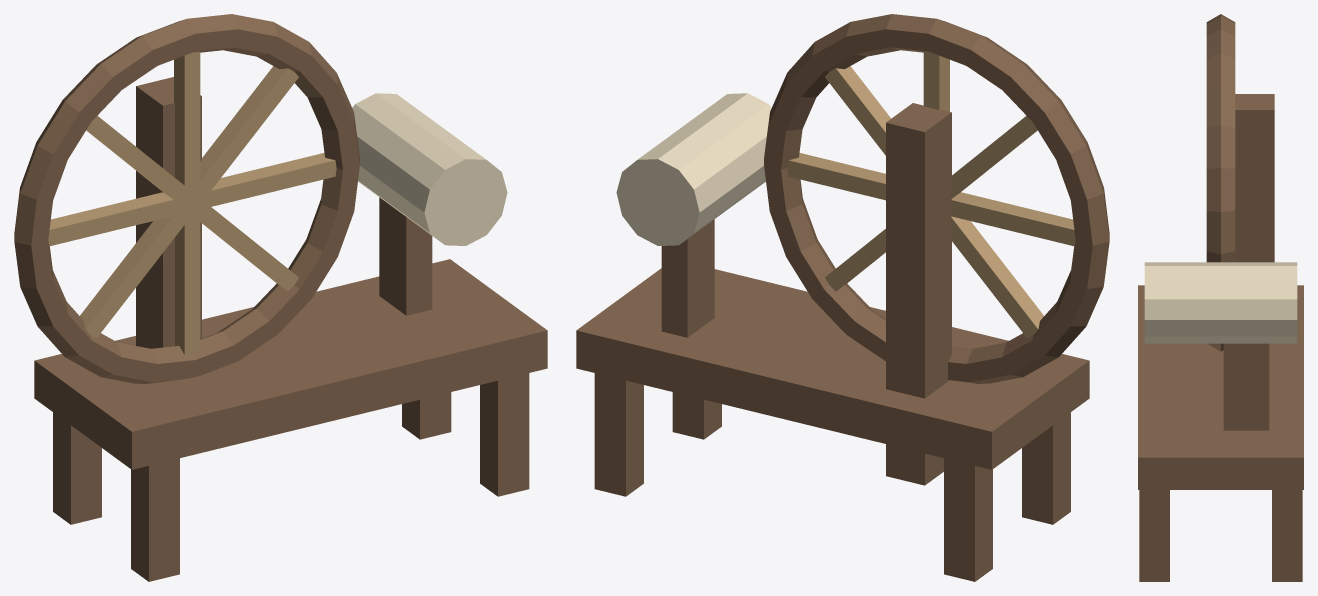
File: var_spinning_wheel.glb
3 views of the same model, side by side, from view 1: azimuth 30°, elevation 25°; view 2: azimuth 150°, elevation 25°; view 3: azimuth 270°, elevation 25° (orthographic). The views are drawn at different scales.
Parts seen in each view (by area): view 1: var_spinning_wheel; view 2: var_spinning_wheel; view 3: var_spinning_wheel.
Part boxes in pixels (bbox=[...]): var_spinning_wheel: bbox=[14, 14, 547, 581]; var_spinning_wheel: bbox=[576, 14, 1109, 581]; var_spinning_wheel: bbox=[1138, 14, 1303, 581].
Size of the model in its own units: 1.87 by 1.87 by 0.65.
